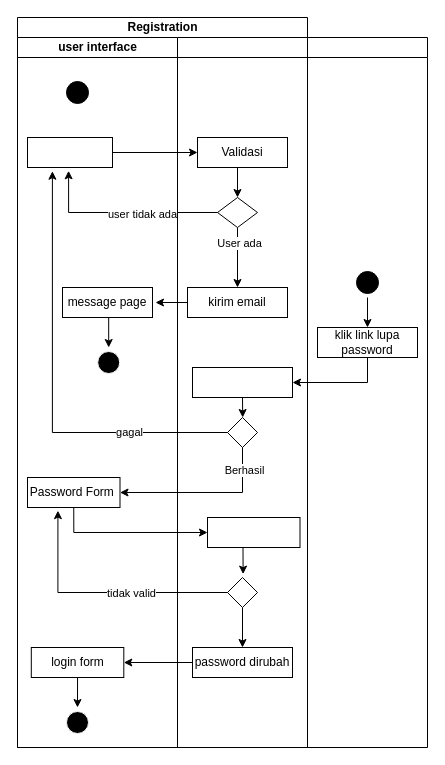
Image size: 445x765. Some labels were removed from this diagram. Here are the shapes that lost their labels. From the top down, the box of each, then its label:
(26, 136, 112, 168): Lupa Password page
(192, 366, 292, 398): validasi link
(176, 36, 308, 748): backend
(306, 36, 428, 748): email
(206, 516, 300, 548): validasi password baru
